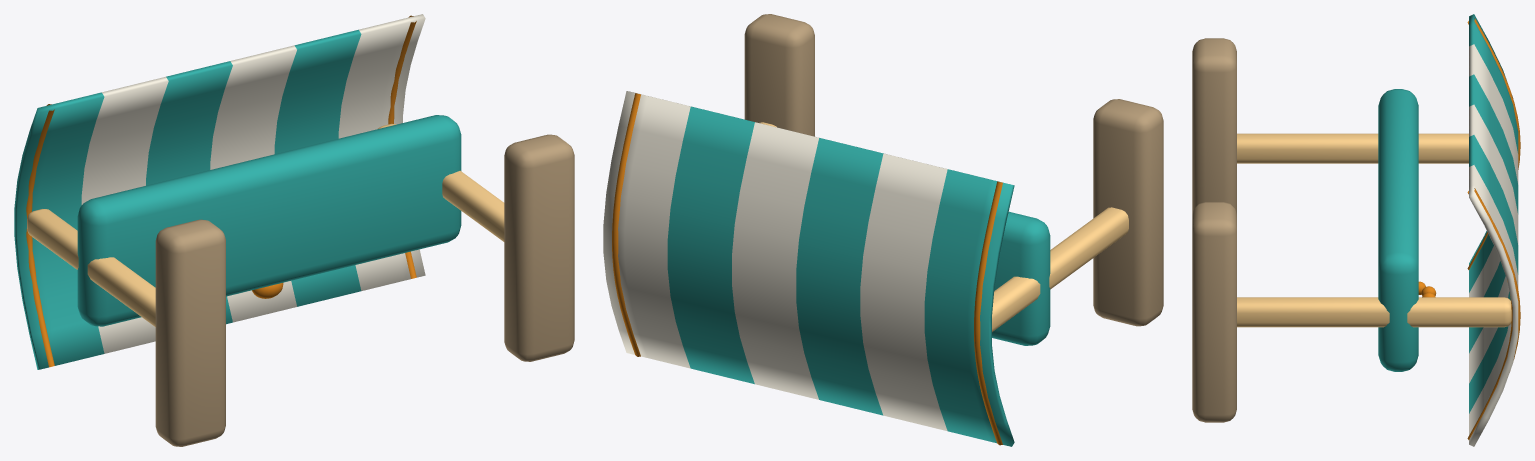
File: RunnerRibbonGate.fbx
3 views of the same model, side by side, from view 1: azimuth 30°, elevation 25°; view 2: azimuth 150°, elevation 25°; view 3: azimuth 270°, elevation 25° (orthographic). The views are drawn at different scales.
Parts seen in each view (by area): view 1: RunnerRibbonGate; view 2: RunnerRibbonGate; view 3: RunnerRibbonGate.
Boxes of the visible parts, x1,y1,x2,y2 form: RunnerRibbonGate: [14, 14, 574, 446]; RunnerRibbonGate: [603, 14, 1163, 446]; RunnerRibbonGate: [1192, 14, 1520, 446].
Bounding box in the file's own units: 1.21 × 0.7509 × 0.882.
